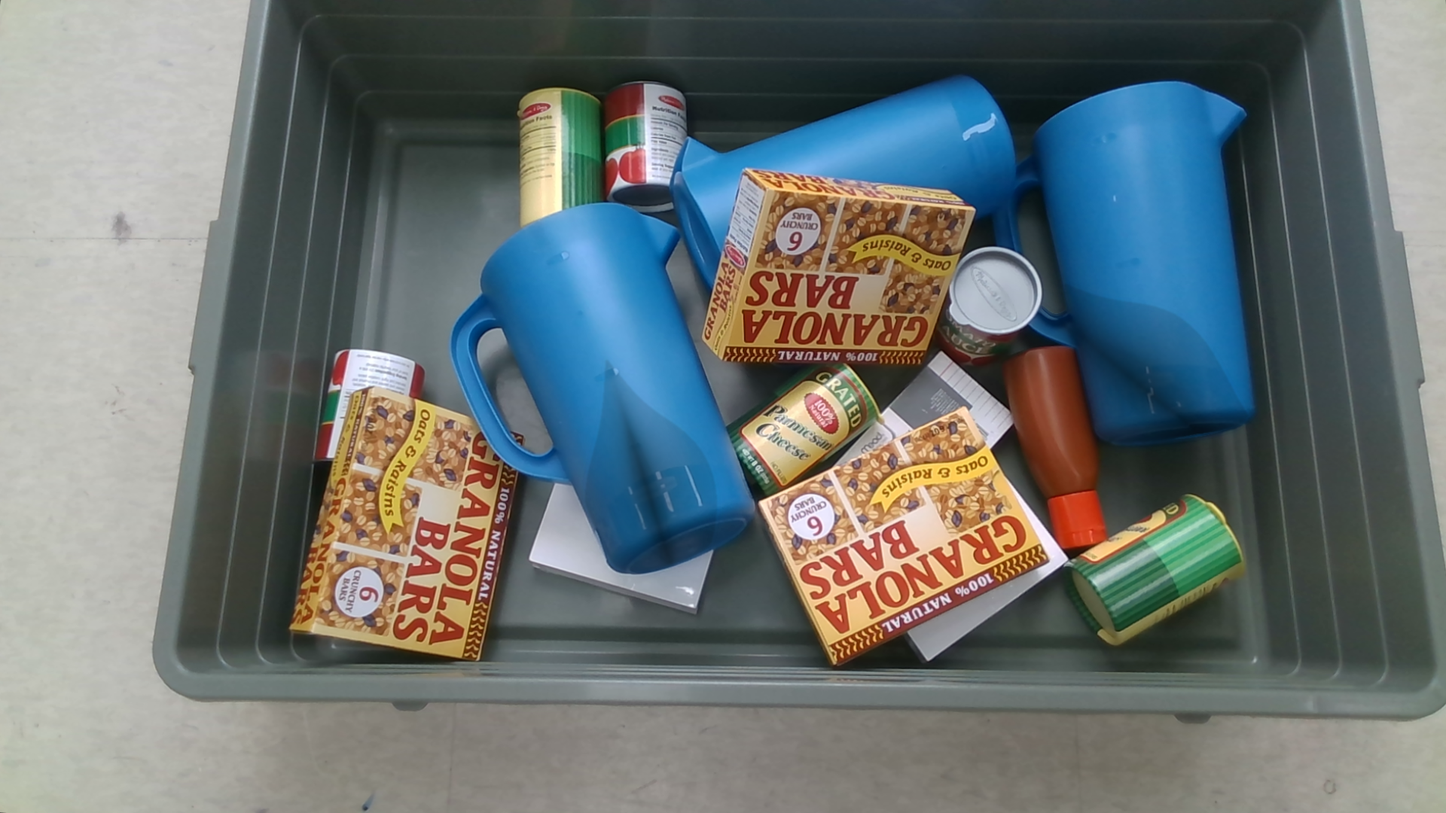defect: (1030, 284, 1248, 443), (585, 360, 717, 571)
